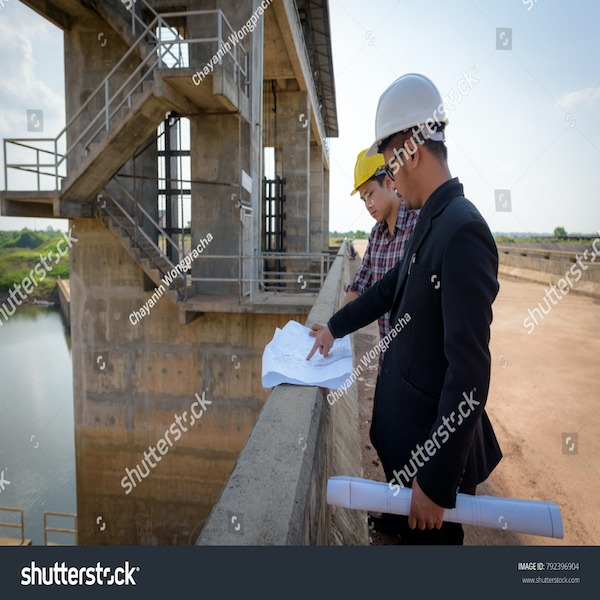helmet: (373, 75, 453, 145), (345, 149, 384, 195)
